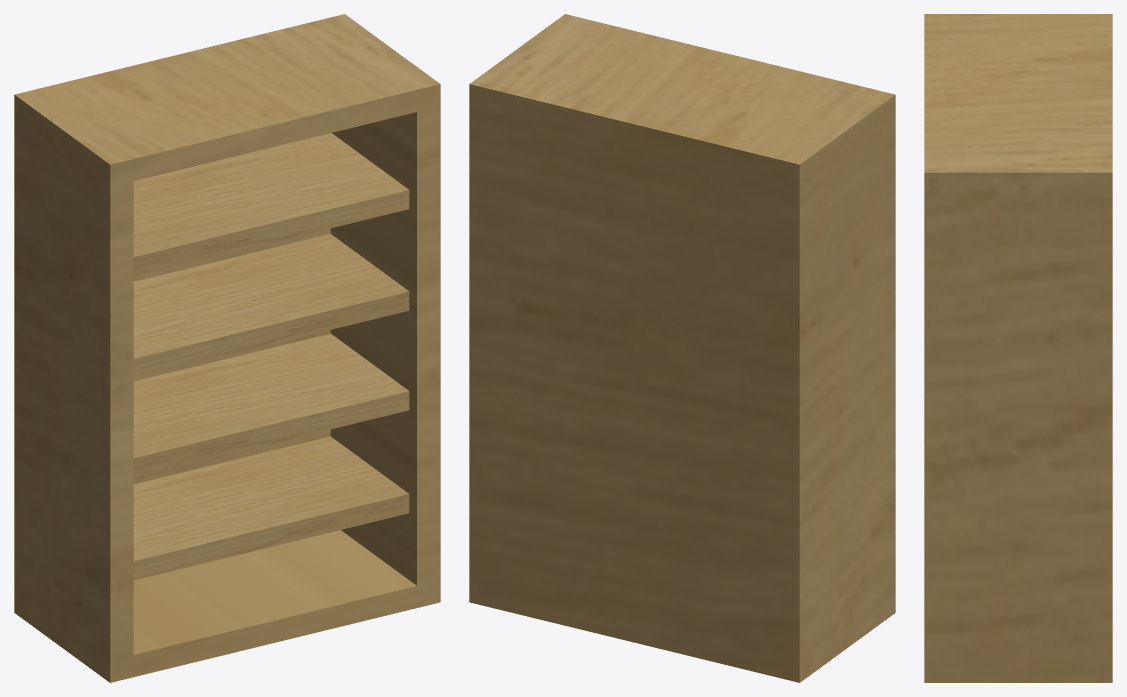
File: Cabinet.fbx
3 views of the same model, side by side, from view 1: azimuth 30°, elevation 25°; view 2: azimuth 150°, elevation 25°; view 3: azimuth 270°, elevation 25° (orthographic).
Visible parts, largest first — view 1: Cabinet; view 2: Cabinet; view 3: Cabinet.
Boxes of the visible parts, <box> form: Cabinet: <box>14,14,440,682</box>; Cabinet: <box>469,14,895,682</box>; Cabinet: <box>924,14,1112,682</box>.
Size of the model in its own units: 133 by 200 by 66.98.
